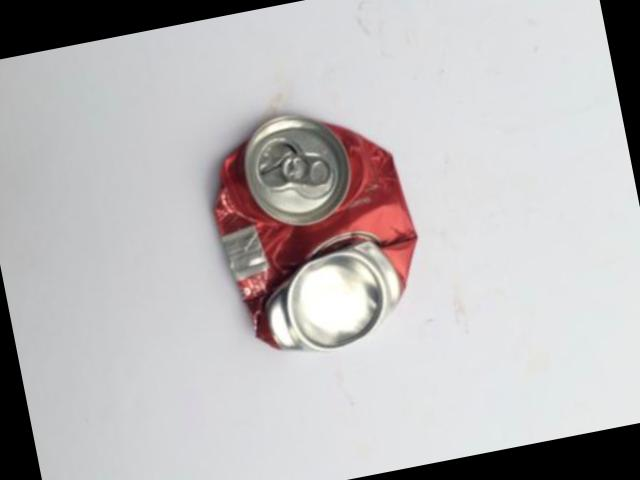metal: (214, 111, 416, 347)
